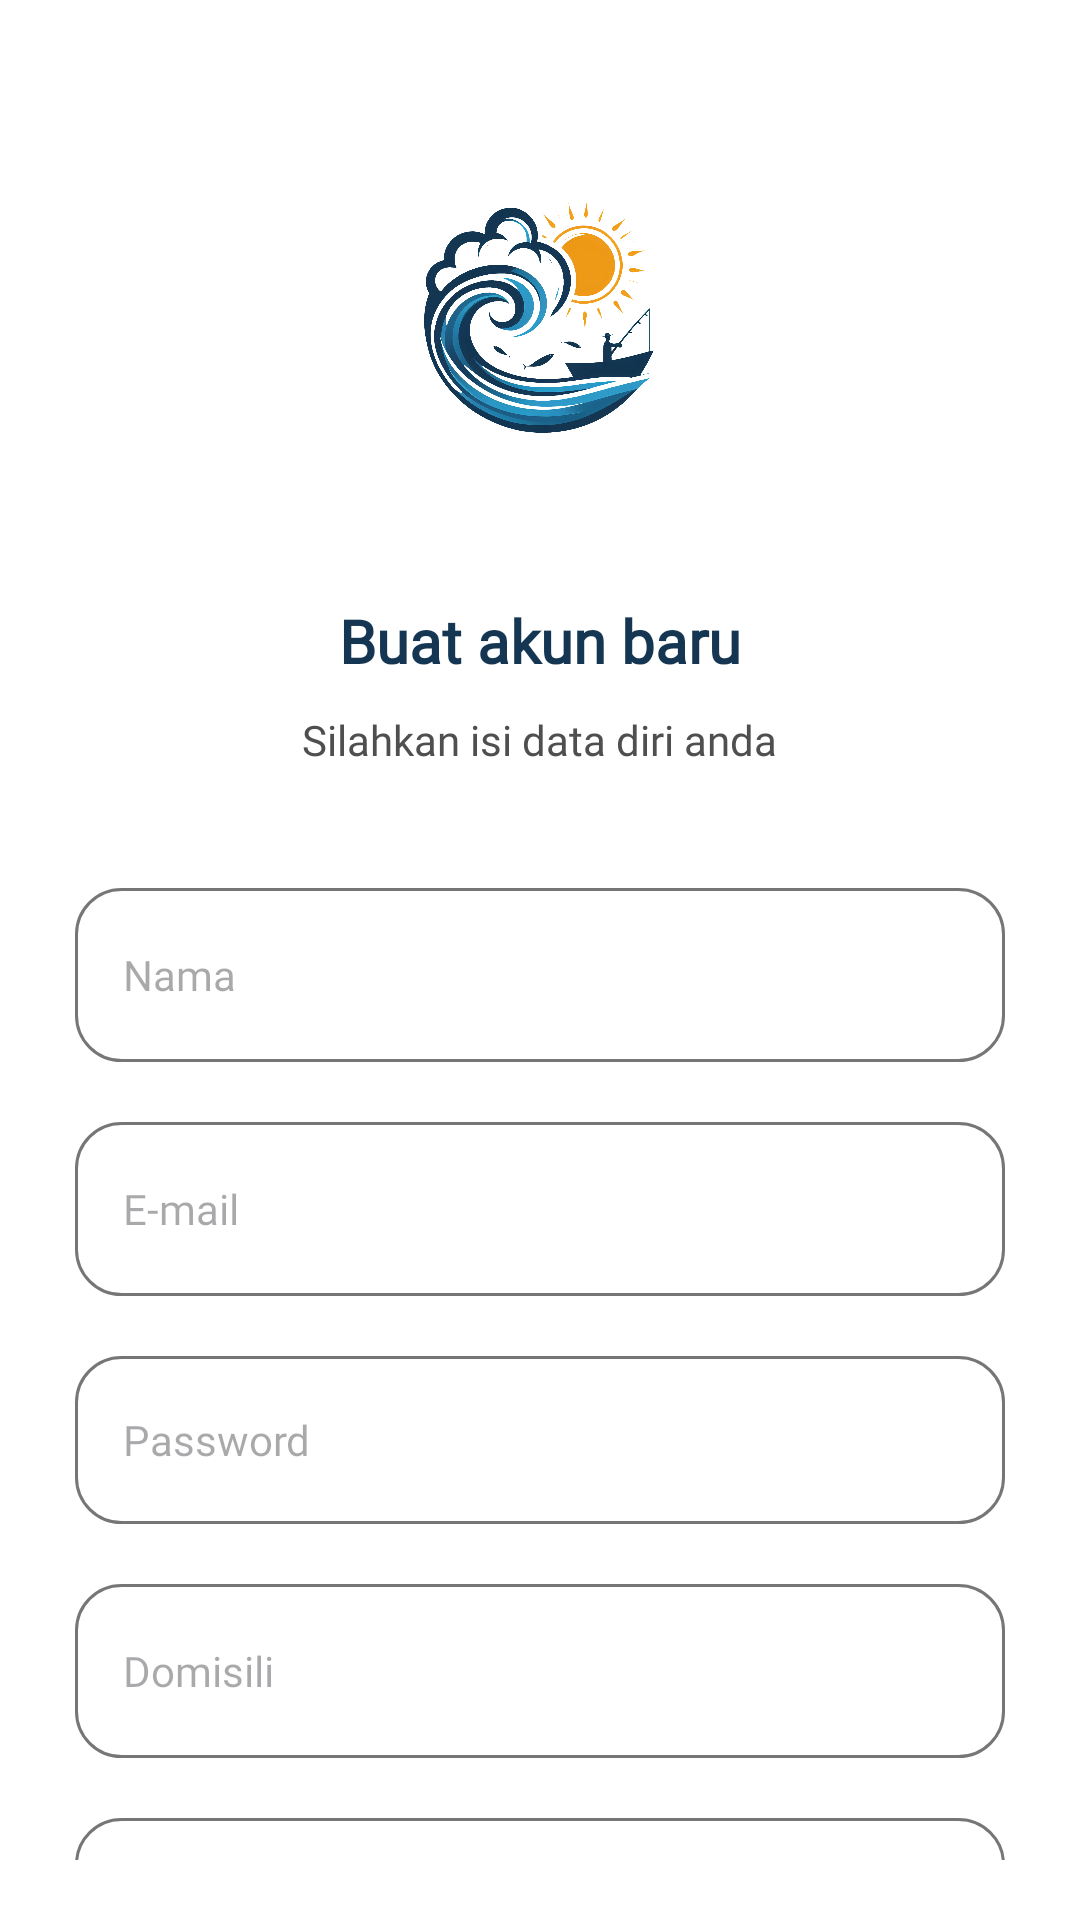

Icons on this 1080*1920 Android screen, each with the point to tap as (x,y):
iconwave: (539,318)
